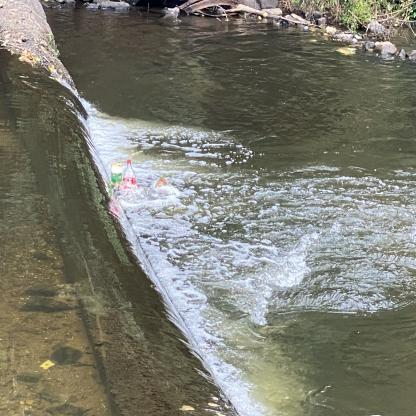trash: (121, 156, 139, 196), (108, 158, 124, 188), (152, 174, 168, 192)
